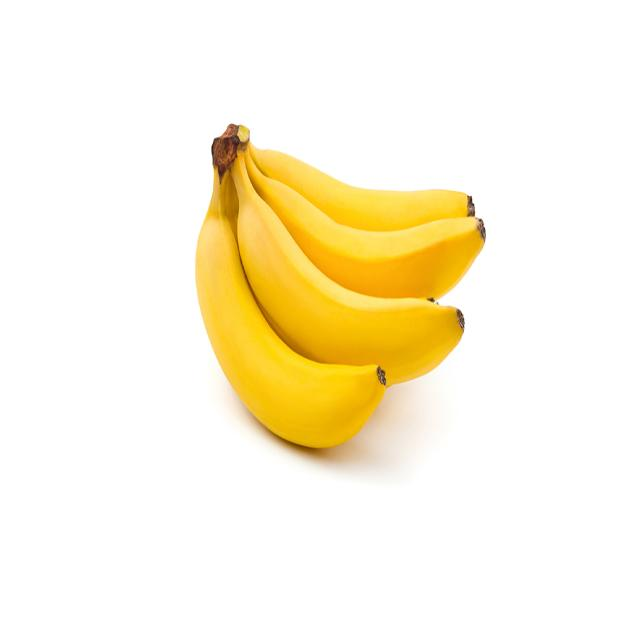Banana: (190, 111, 486, 454)
